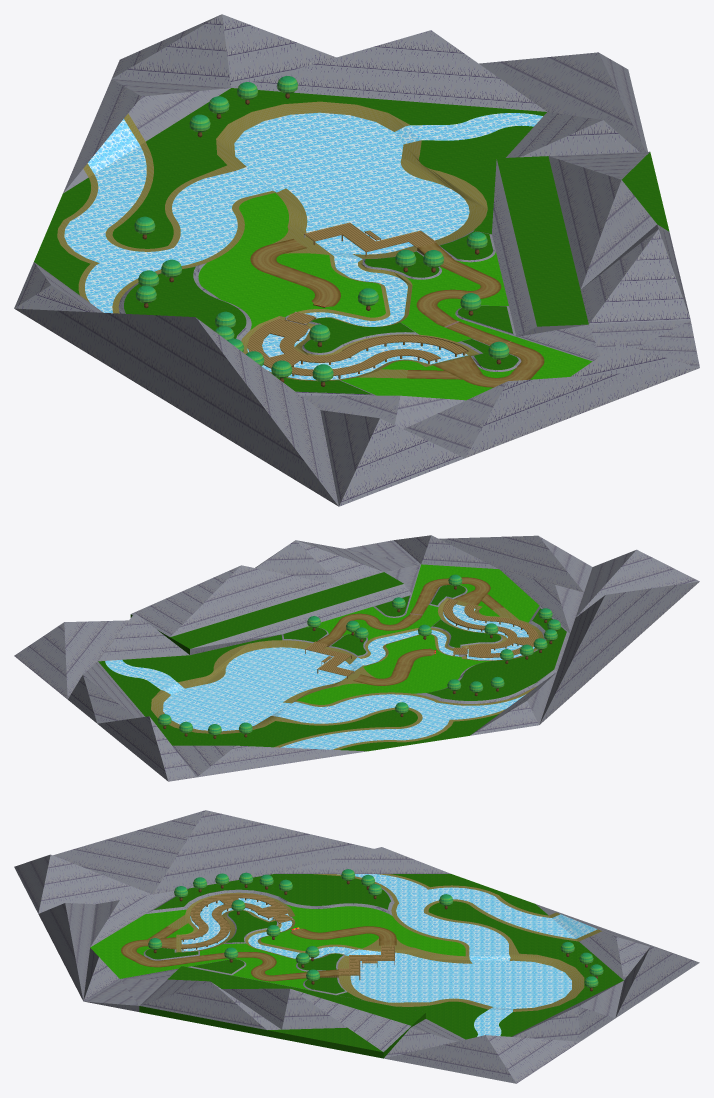
3 renders of one model, top to bottom at view 1: azimuth 30°, elevation 25°; view 2: azimuth 150°, elevation 25°; view 3: azimuth 270°, elevation 25°, orthographic. The views are drawn at different scales.
Parts seen in each view (by area): view 1: Lakebridgev1_2_1textured6-SKP--Mountain, Lakebridgev1_2_1textured6-SKP--Water, Lakebridgev1_2_1textured6-SKP--Dark_grass, Lakebridgev1_2_1textured6-SKP--Light_grass, Lakebridgev1_2_1textured6-SKP--Sand, Lakebridgev1_2_1textured6-SKP--Mud_road, Lakebridgev1_2_1textured6-SKP--wood, Lakebridgev1_2_1textured6-COM-Tree1__Tre-21670-Material_36; view 2: Lakebridgev1_2_1textured6-SKP--Mountain, Lakebridgev1_2_1textured6-SKP--Dark_grass, Lakebridgev1_2_1textured6-SKP--Water, Lakebridgev1_2_1textured6-SKP--Light_grass, Lakebridgev1_2_1textured6-SKP--Sand, Lakebridgev1_2_1textured6-SKP--Mud_road, Lakebridgev1_2_1textured6-COM-Tree1__Tre-21670-Material_36, Lakebridgev1_2_1textured6-SKP--wood; view 3: Lakebridgev1_2_1textured6-SKP--Mountain, Lakebridgev1_2_1textured6-SKP--Dark_grass, Lakebridgev1_2_1textured6-SKP--Water, Lakebridgev1_2_1textured6-SKP--Light_grass, Lakebridgev1_2_1textured6-SKP--Sand, Lakebridgev1_2_1textured6-SKP--Mud_road, Lakebridgev1_2_1textured6-COM-Tree1__Tre-21670-Material_36, Lakebridgev1_2_1textured6-SKP--wood.
Boxes of the visible parts, x1,y1,x2,y2 form: Lakebridgev1_2_1textured6-SKP--Mountain: [14, 14, 699, 506]; Lakebridgev1_2_1textured6-SKP--Water: [64, 112, 542, 380]; Lakebridgev1_2_1textured6-SKP--Dark_grass: [34, 88, 669, 394]; Lakebridgev1_2_1textured6-SKP--Light_grass: [198, 193, 592, 400]; Lakebridgev1_2_1textured6-SKP--Sand: [57, 101, 487, 381]; Lakebridgev1_2_1textured6-SKP--Mud_road: [250, 239, 544, 387]; Lakebridgev1_2_1textured6-SKP--wood: [247, 222, 517, 378]; Lakebridgev1_2_1textured6-COM-Tree1__Tre-21670-Material_36: [134, 76, 509, 382]; Lakebridgev1_2_1textured6-SKP--Mountain: [14, 535, 699, 781]; Lakebridgev1_2_1textured6-SKP--Dark_grass: [98, 572, 566, 751]; Lakebridgev1_2_1textured6-SKP--Water: [105, 604, 534, 749]; Lakebridgev1_2_1textured6-SKP--Light_grass: [297, 564, 539, 704]; Lakebridgev1_2_1textured6-SKP--Sand: [151, 598, 543, 749]; Lakebridgev1_2_1textured6-SKP--Mud_road: [316, 577, 503, 685]; Lakebridgev1_2_1textured6-COM-Tree1__Tre-21670-Material_36: [157, 574, 560, 735]; Lakebridgev1_2_1textured6-SKP--wood: [305, 589, 538, 678]; Lakebridgev1_2_1textured6-SKP--Mountain: [14, 810, 699, 1083]; Lakebridgev1_2_1textured6-SKP--Dark_grass: [139, 874, 623, 1058]; Lakebridgev1_2_1textured6-SKP--Water: [181, 874, 597, 1036]; Lakebridgev1_2_1textured6-SKP--Light_grass: [90, 904, 465, 990]; Lakebridgev1_2_1textured6-SKP--Sand: [167, 874, 601, 1011]; Lakebridgev1_2_1textured6-SKP--Mud_road: [121, 926, 396, 981]; Lakebridgev1_2_1textured6-COM-Tree1__Tre-21670-Material_36: [148, 869, 603, 987]; Lakebridgev1_2_1textured6-SKP--wood: [164, 893, 394, 980].
Size of the model in its own units: 156923 by 18700 by 197533.
Materials: 13 (12 with a texture image).
